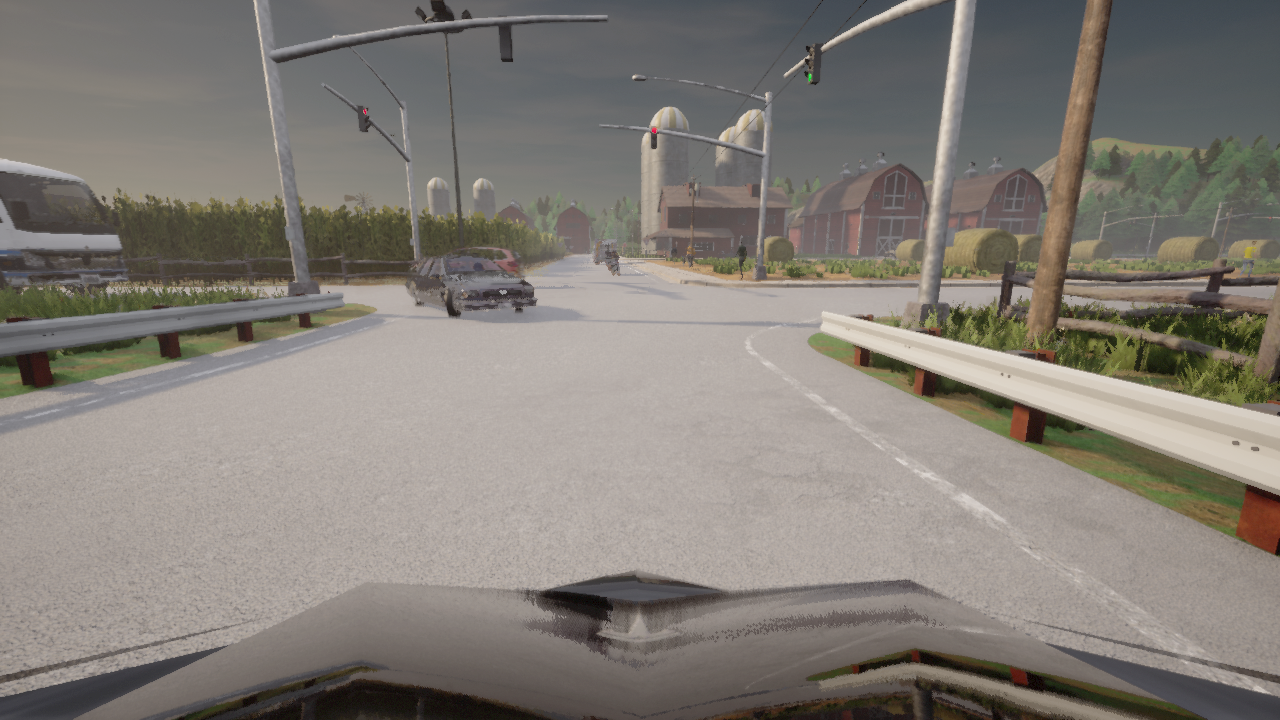cyclist: (0, 569, 1279, 719), (0, 158, 127, 294), (404, 255, 538, 318), (409, 246, 525, 279), (592, 240, 615, 264), (718, 249, 737, 259), (884, 246, 897, 258), (611, 257, 617, 274), (606, 258, 607, 266)
pedestrian: (1238, 240, 1258, 277), (733, 240, 747, 279), (683, 242, 694, 269), (671, 245, 676, 263), (681, 255, 685, 268)
